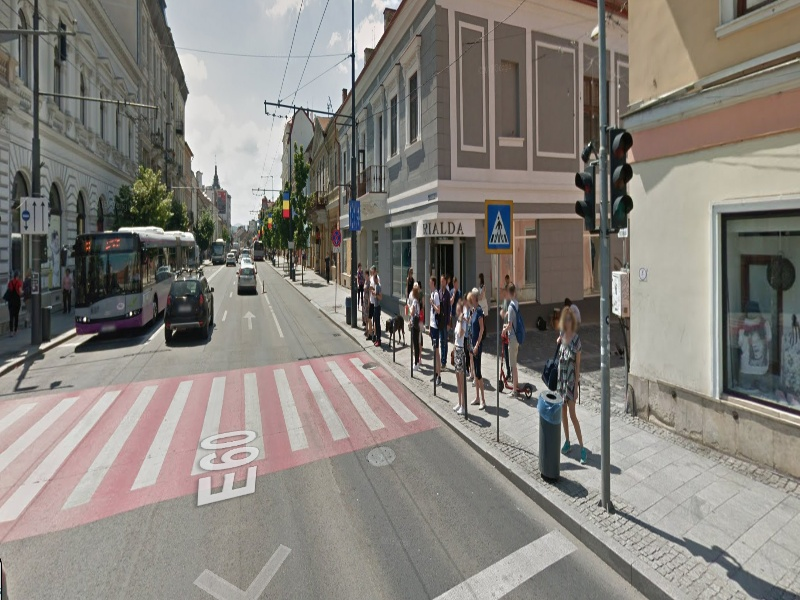crosswalk: (1, 342, 443, 549)
crosswalk_sign: (484, 200, 515, 253)
pedestrian: (549, 303, 589, 470), (502, 281, 536, 403), (451, 300, 472, 421), (425, 277, 447, 386), (359, 267, 374, 343)
semaphore: (607, 126, 636, 236), (572, 164, 601, 236)
